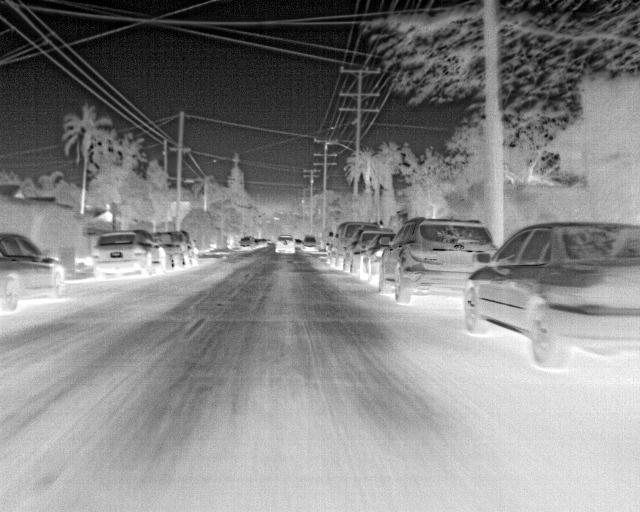bicycle: (462, 218, 637, 372), (378, 218, 498, 305), (0, 232, 66, 311), (92, 230, 164, 278), (342, 224, 393, 274), (357, 232, 396, 282), (150, 232, 185, 270), (325, 221, 350, 267), (178, 232, 196, 263), (274, 235, 295, 254), (301, 235, 317, 251), (237, 237, 256, 250)
